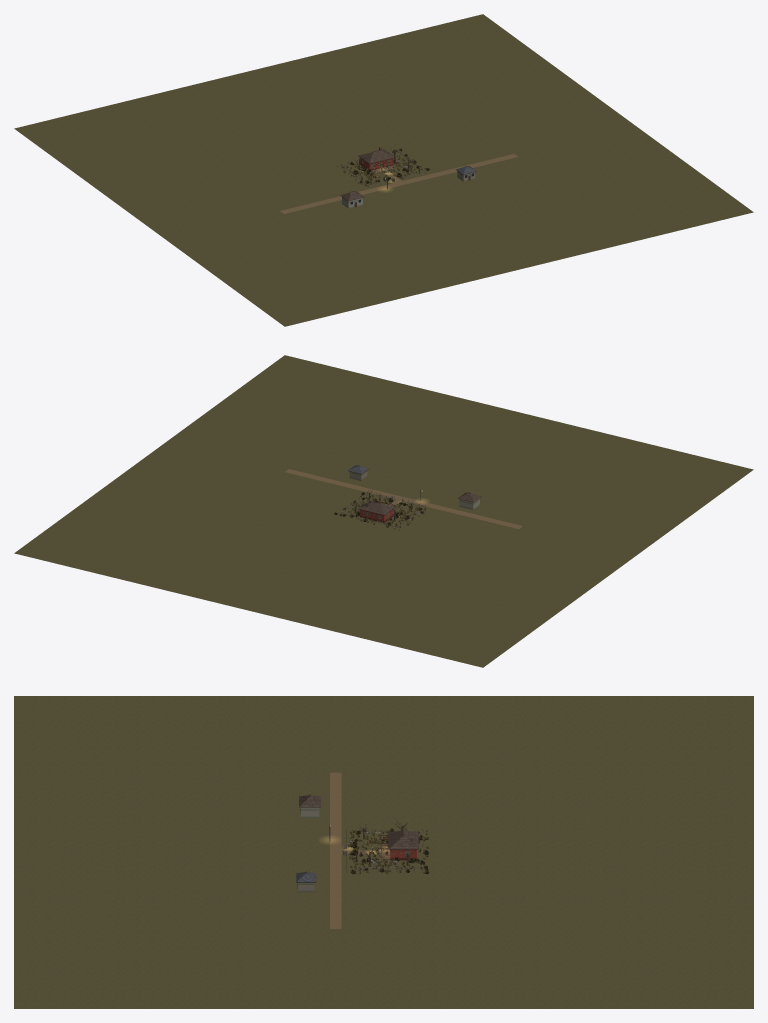
File: casa_geraldo.glb
The picture shows the model from 3 angles, top to bottom: view 1: azimuth 30°, elevation 25°; view 2: azimuth 150°, elevation 25°; view 3: azimuth 270°, elevation 25°; orthographic projection. The views are drawn at different scales.
Size of the model in its own units: 200 by 6.5 by 200.
67 materials, 31 textured.
